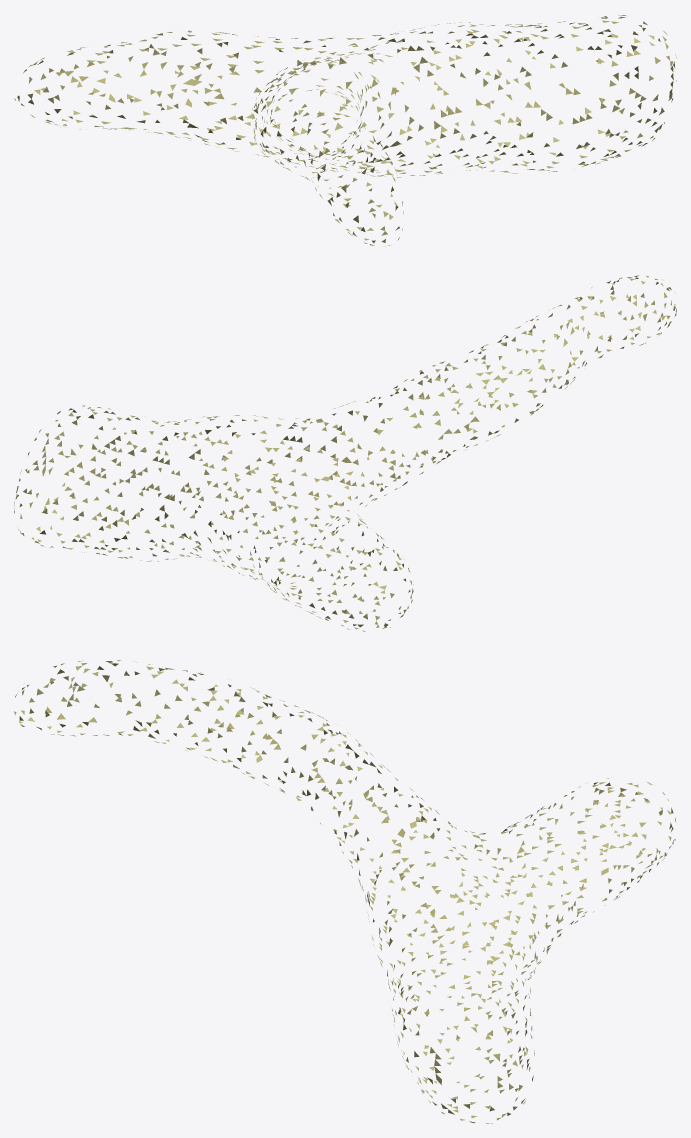
File: morph_009.glb
3 views of the same model, one above another, from view 1: azimuth 30°, elevation 25°; view 2: azimuth 150°, elevation 25°; view 3: azimuth 270°, elevation 25° (orthographic). The views are drawn at different scales.
Size of the model in its own units: 56.13 by 27.05 by 65.
